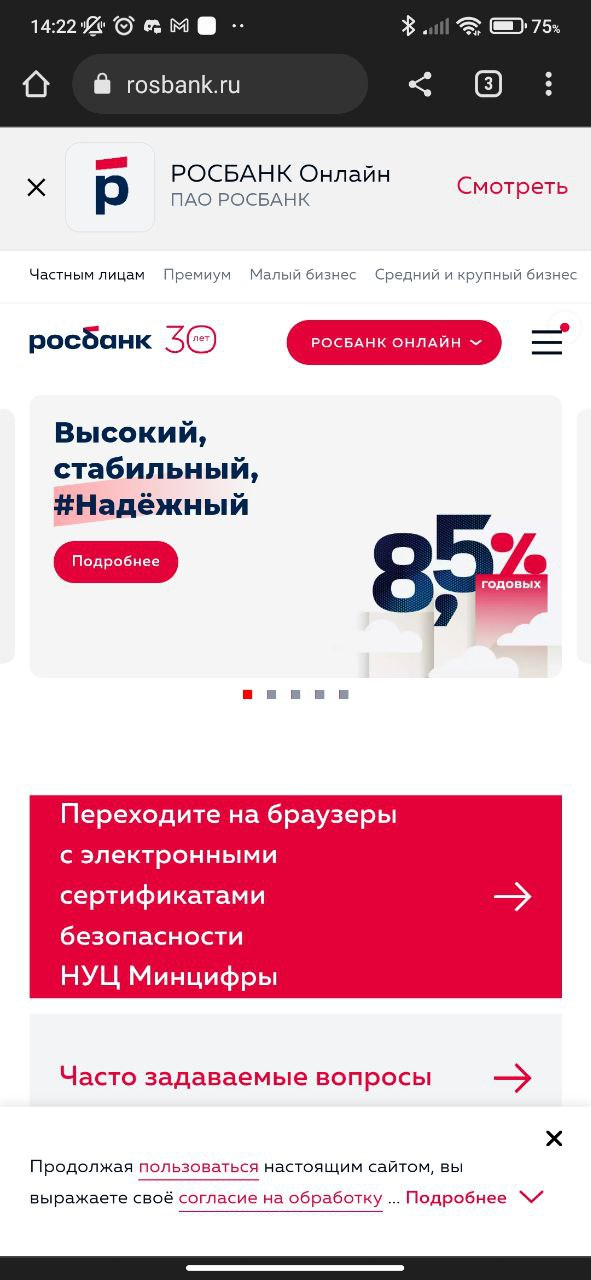burger_menu: (525, 324, 566, 361)
